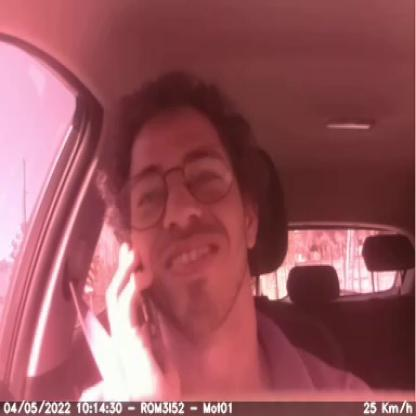phone: (120, 242, 174, 380)
